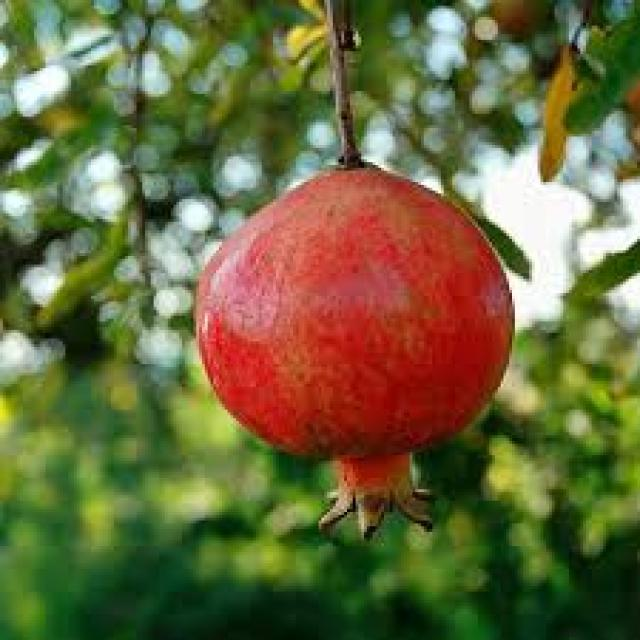Pomegranate: (195, 164, 518, 540)
